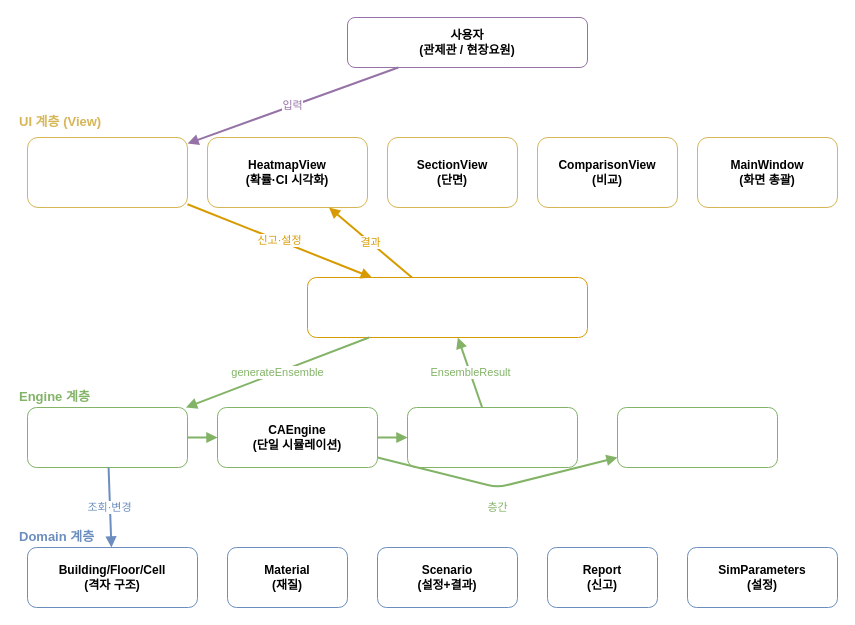
The diagram is 855 pixels wide and 625 high, and some of its shapes have lost their labels. The centre of each missing label's shape, as x and y in pixels:
"ConnectionCell (층간 전달)" belongs at point (697, 437).
"EnsembleResult (확률분포+CI)" belongs at point (492, 437).
"EnsembleRunner (N회 반복)" belongs at point (107, 437).
"ReportInputView ParameterView (입력 수집)" belongs at point (107, 172).
"SimulationAdapter (데이터 변환 · UI↔Engine 중개)" belongs at point (447, 307).
